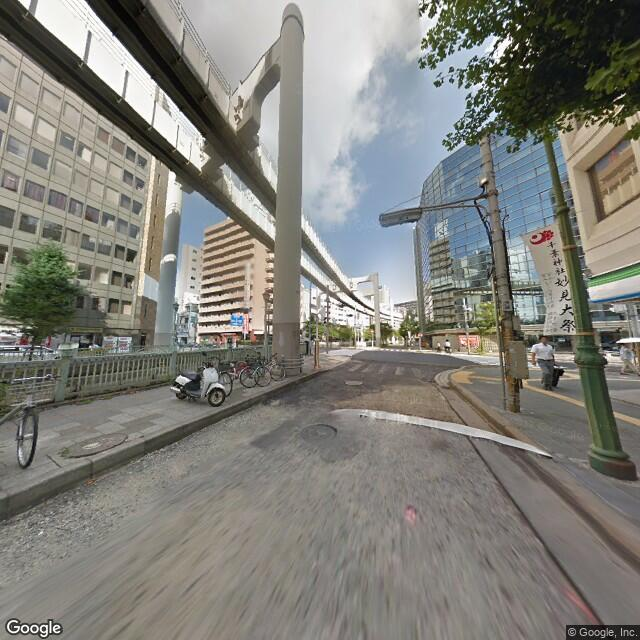family_mart: (587, 264, 639, 305)
